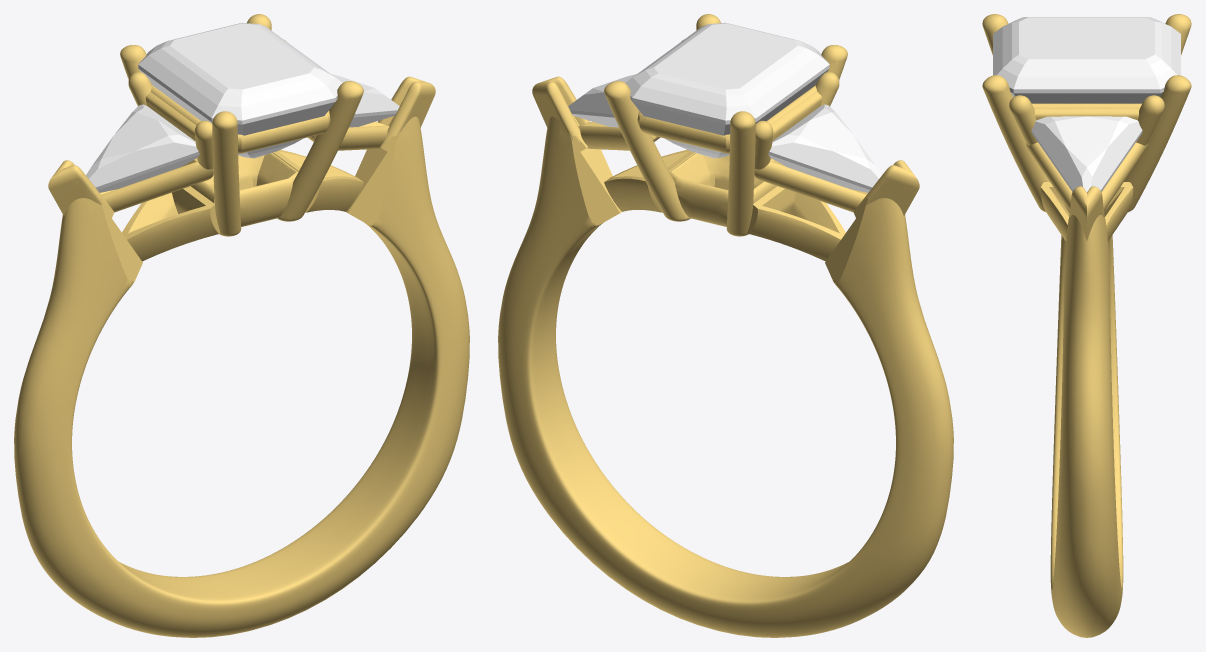
File: StephenCgold_webgi.glb
The picture shows the model from 3 angles, left to right: view 1: azimuth 30°, elevation 25°; view 2: azimuth 150°, elevation 25°; view 3: azimuth 270°, elevation 25°; orthographic projection.
Visible parts, largest first — view 1: stephen_pt_for_3d_model, stephen_diamonds_for_3d_model001, stephen_diamonds_for_3d_model003, stephen_diamonds_for_3d_model002; view 2: stephen_pt_for_3d_model, stephen_diamonds_for_3d_model001, stephen_diamonds_for_3d_model003, stephen_diamonds_for_3d_model002; view 3: stephen_pt_for_3d_model, stephen_diamonds_for_3d_model001, stephen_diamonds_for_3d_model002.
Boxes of the visible parts, x1,y1,x2,y2 form: stephen_pt_for_3d_model: (14,14,469,637); stephen_diamonds_for_3d_model001: (138,22,342,158); stephen_diamonds_for_3d_model003: (86,104,199,192); stephen_diamonds_for_3d_model002: (331,74,399,127); stephen_pt_for_3d_model: (498,14,953,637); stephen_diamonds_for_3d_model001: (625,22,829,158); stephen_diamonds_for_3d_model003: (768,104,881,192); stephen_diamonds_for_3d_model002: (568,74,636,127); stephen_pt_for_3d_model: (982,14,1191,637); stephen_diamonds_for_3d_model001: (993,17,1180,103); stephen_diamonds_for_3d_model002: (1031,116,1142,191).
Size of the model in its own units: 2.46 by 2.99 by 0.9893.
